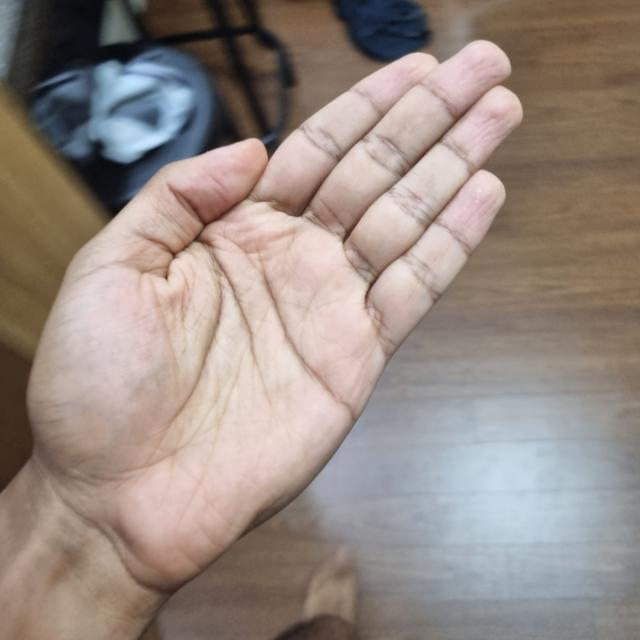Paper: (27, 43, 522, 559)
